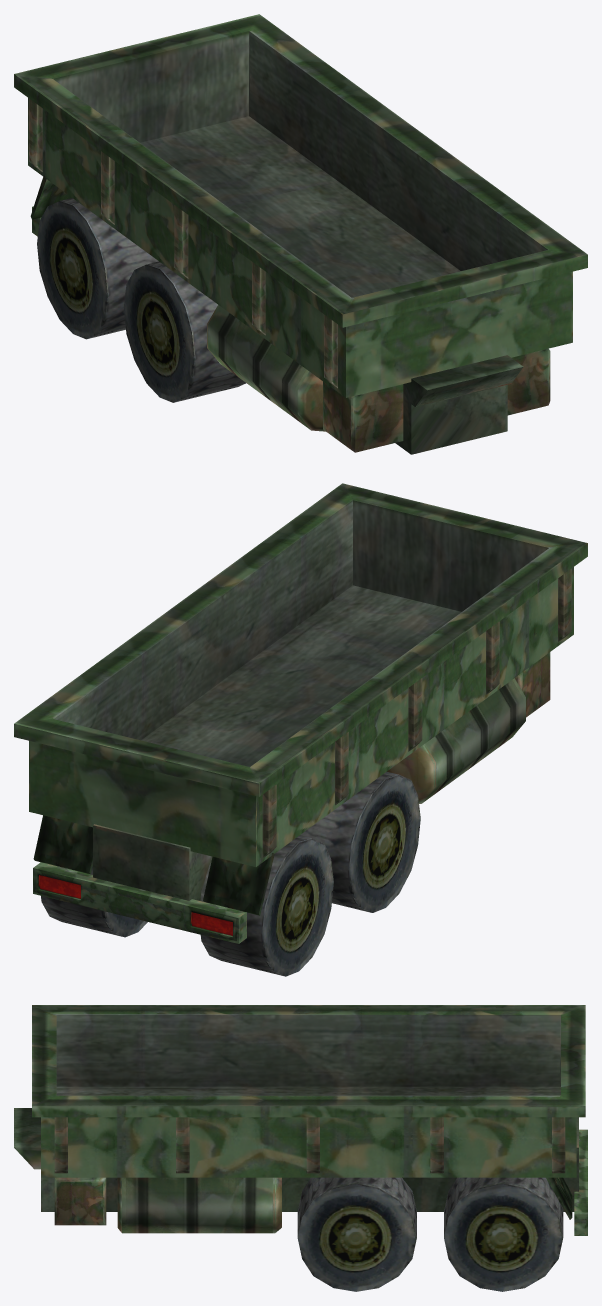
Rendered from loadtruckb.obj.
3 views of the same model, one above another, from view 1: azimuth 30°, elevation 25°; view 2: azimuth 150°, elevation 25°; view 3: azimuth 270°, elevation 25° (orthographic). The views are drawn at different scales.
Parts seen in each view (by area): view 1: Group; view 2: Group; view 3: Group.
Boxes of the visible parts, x1=… form: Group: x1=14, y1=14, x2=587, y2=454; Group: x1=14, y1=483, x2=587, y2=976; Group: x1=14, y1=1005, x2=587, y2=1291.
Bounding box in the file's own units: 94.12 × 82.88 × 226.
